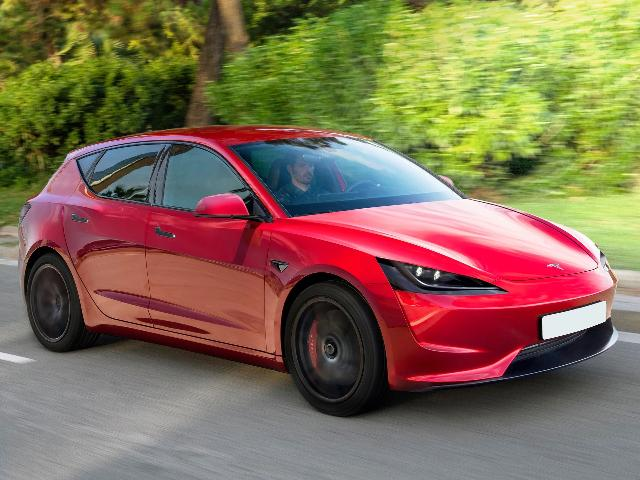tesla: (17, 123, 620, 416)
